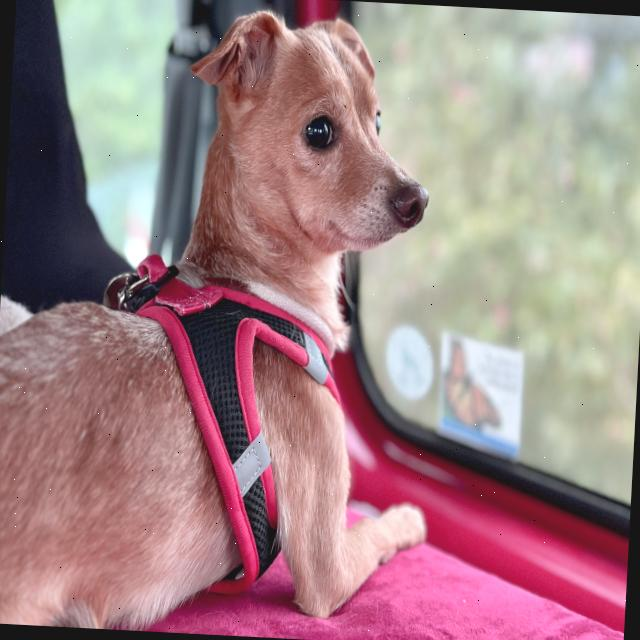chihuahua_dog: (166, 1, 454, 290)
